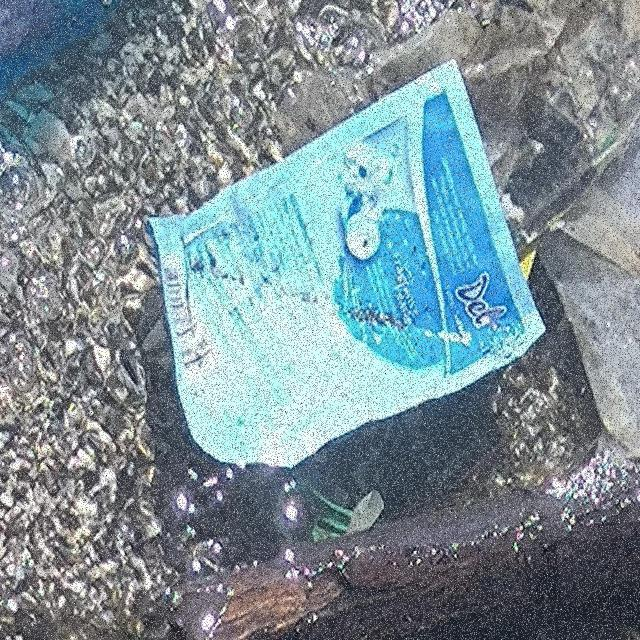plastic_waste: (146, 58, 550, 474)
